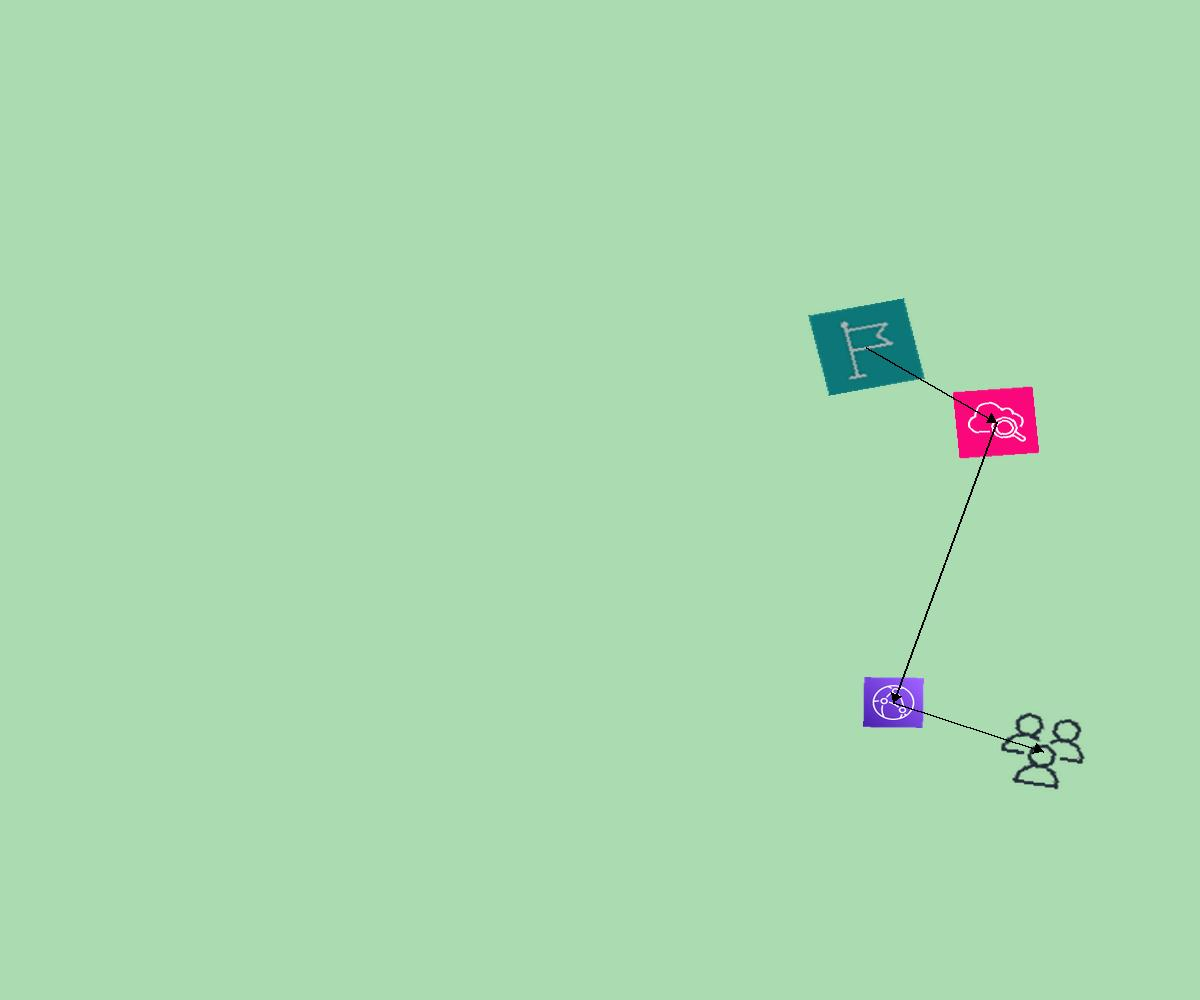AWS-CloudFront: (863, 677, 924, 728)
AWS-CloudWatch: (952, 386, 1040, 459)
AWS-Region: (808, 298, 925, 396)
AWS-Res_Users: (988, 705, 1098, 797)
